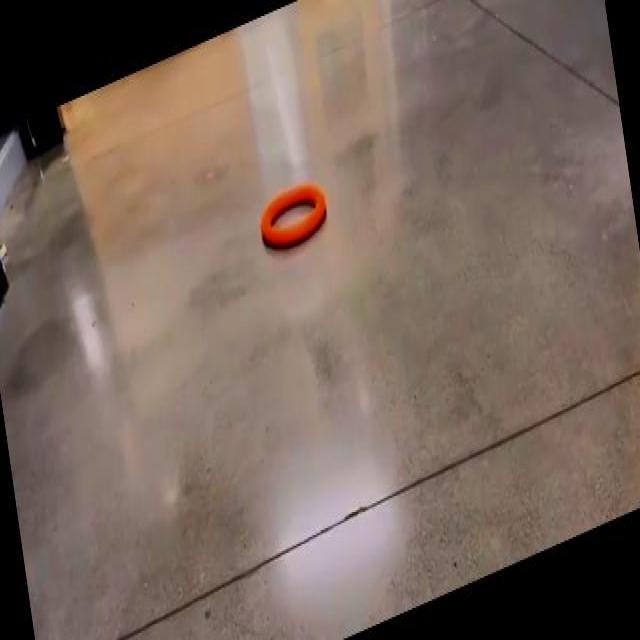note: (260, 184, 327, 247)
